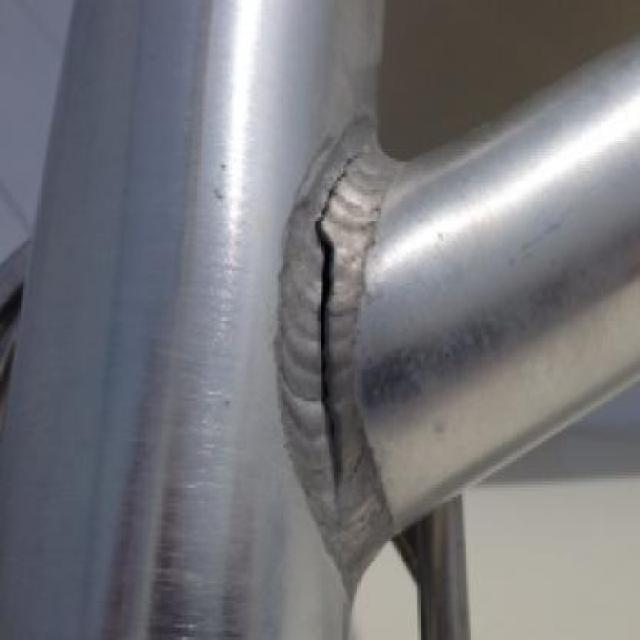crack: (305, 136, 372, 525)
